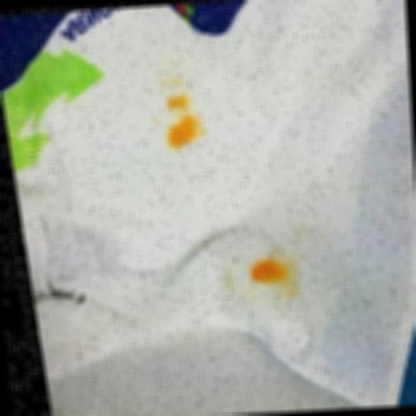kimchi: (247, 251, 295, 285), (166, 115, 199, 146), (167, 95, 193, 114), (160, 75, 180, 91), (287, 286, 307, 299), (156, 117, 161, 125)
